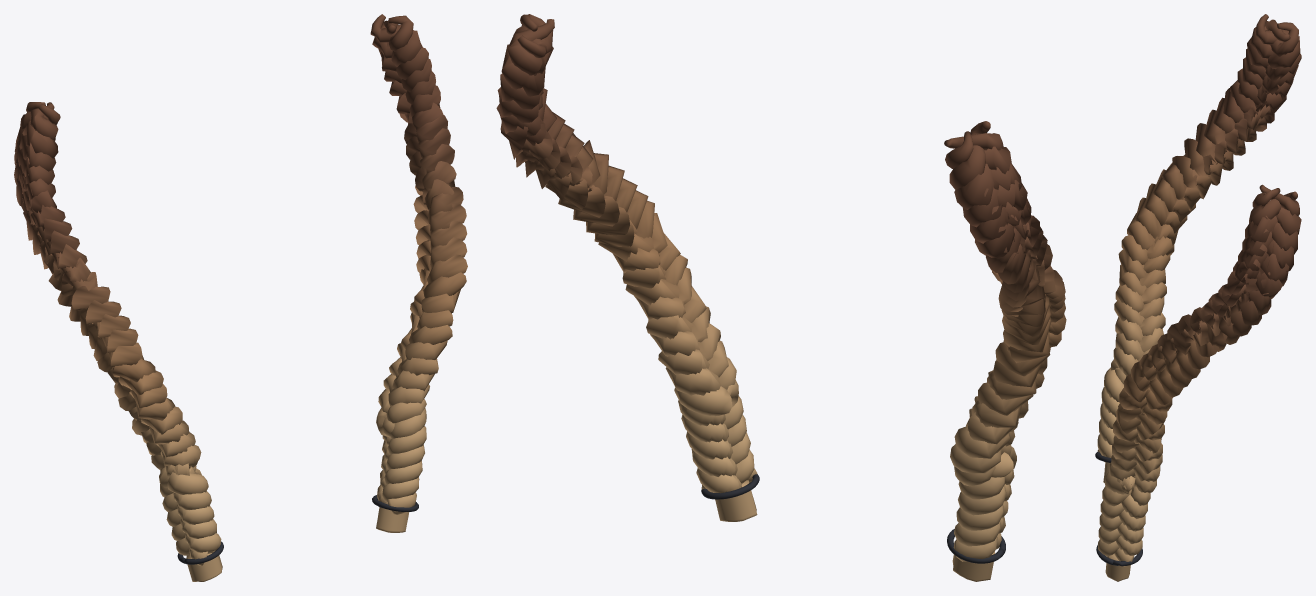
The model's file is Ombre-a4a6b3562a90253-hair.glb.
3 views of the same model, side by side, from view 1: azimuth 30°, elevation 25°; view 2: azimuth 150°, elevation 25°; view 3: azimuth 270°, elevation 25° (orthographic). The views are drawn at different scales.
Visible parts, largest first — view 1: 226 hairLengths / Hair / chestnut226, 226 hairLengths / Hair / ties226; view 2: 226 hairLengths / Hair / chestnut226, 226 hairLengths / Hair / ties226; view 3: 226 hairLengths / Hair / chestnut226, 226 hairLengths / Hair / ties226.
Boxes of the visible parts, <box> form: 226 hairLengths / Hair / chestnut226: <box>14,14,467,581</box>; 226 hairLengths / Hair / ties226: <box>177,495,418,564</box>; 226 hairLengths / Hair / chestnut226: <box>496,14,1066,581</box>; 226 hairLengths / Hair / ties226: <box>701,474,1005,563</box>; 226 hairLengths / Hair / chestnut226: <box>1097,14,1301,581</box>; 226 hairLengths / Hair / ties226: <box>1095,452,1142,566</box>.
Size of the model in its own units: 1.03 by 1.06 by 0.4591.
Materials: 2 (1 with a texture image).
